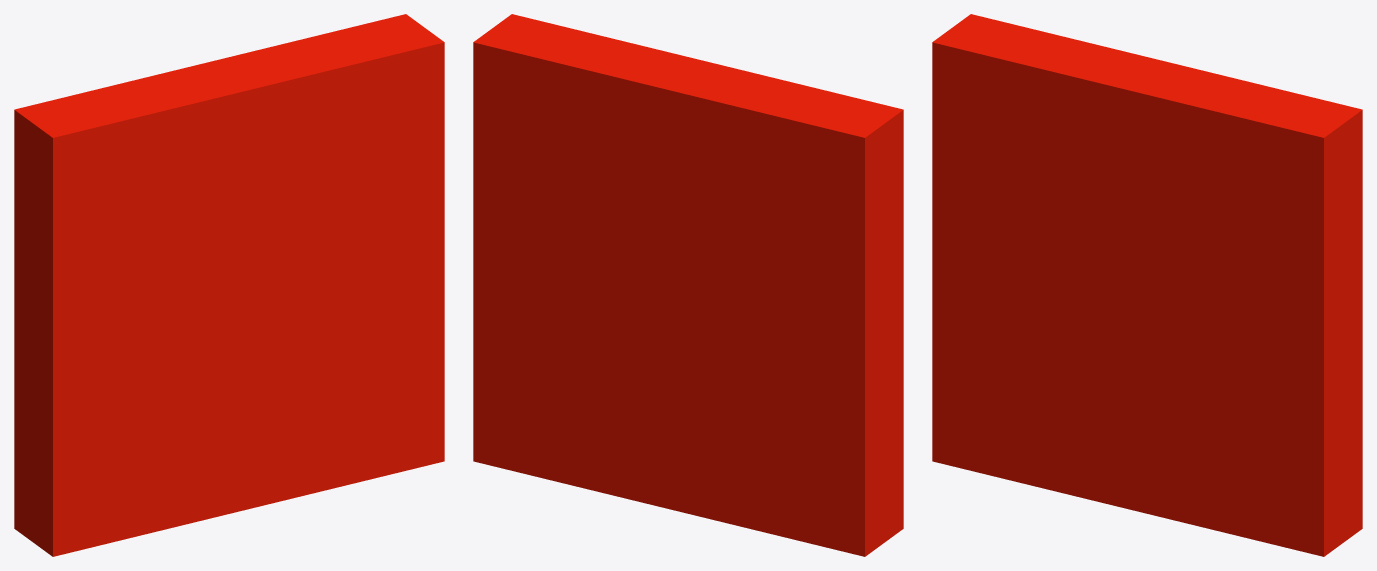
Rendered from GLASS.fbx.
3 views of the same model, side by side, from view 1: azimuth 30°, elevation 25°; view 2: azimuth 150°, elevation 25°; view 3: azimuth 330°, elevation 25° (orthographic).
Visible parts, largest first — view 1: GLASS; view 2: GLASS; view 3: GLASS.
Part boxes in pixels (x1,y1,x2,y2): GLASS: (14, 14, 444, 556); GLASS: (473, 14, 903, 556); GLASS: (932, 14, 1362, 556).
Size of the model in its own units: 351 by 359 by 60.19.
